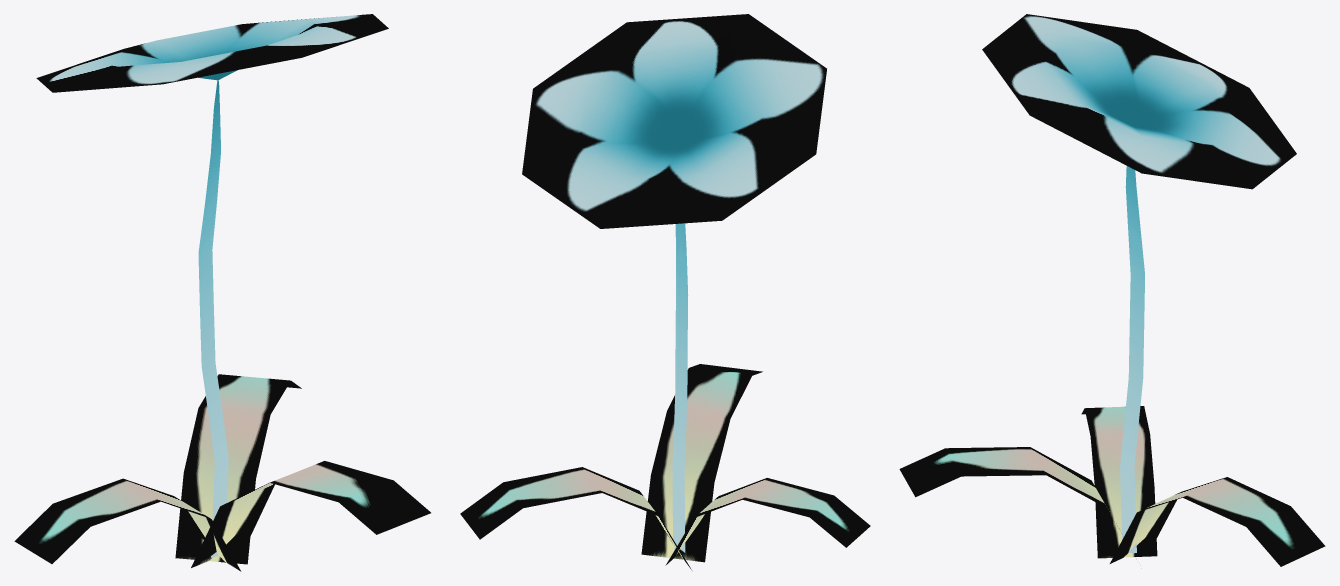
File: SM_Flower_02.fbx
The picture shows the model from 3 angles, left to right: view 1: azimuth 30°, elevation 25°; view 2: azimuth 150°, elevation 25°; view 3: azimuth 270°, elevation 25°; orthographic projection. The views are drawn at different scales.
Visible parts, largest first — view 1: SM_Flower_02; view 2: SM_Flower_02; view 3: SM_Flower_02.
Part boxes in pixels (x1,y1,x2,y2): SM_Flower_02: [14, 14, 430, 571]; SM_Flower_02: [460, 14, 870, 569]; SM_Flower_02: [899, 14, 1325, 566].
Bounding box in the file's own units: 8.23 × 12.11 × 9.21.
